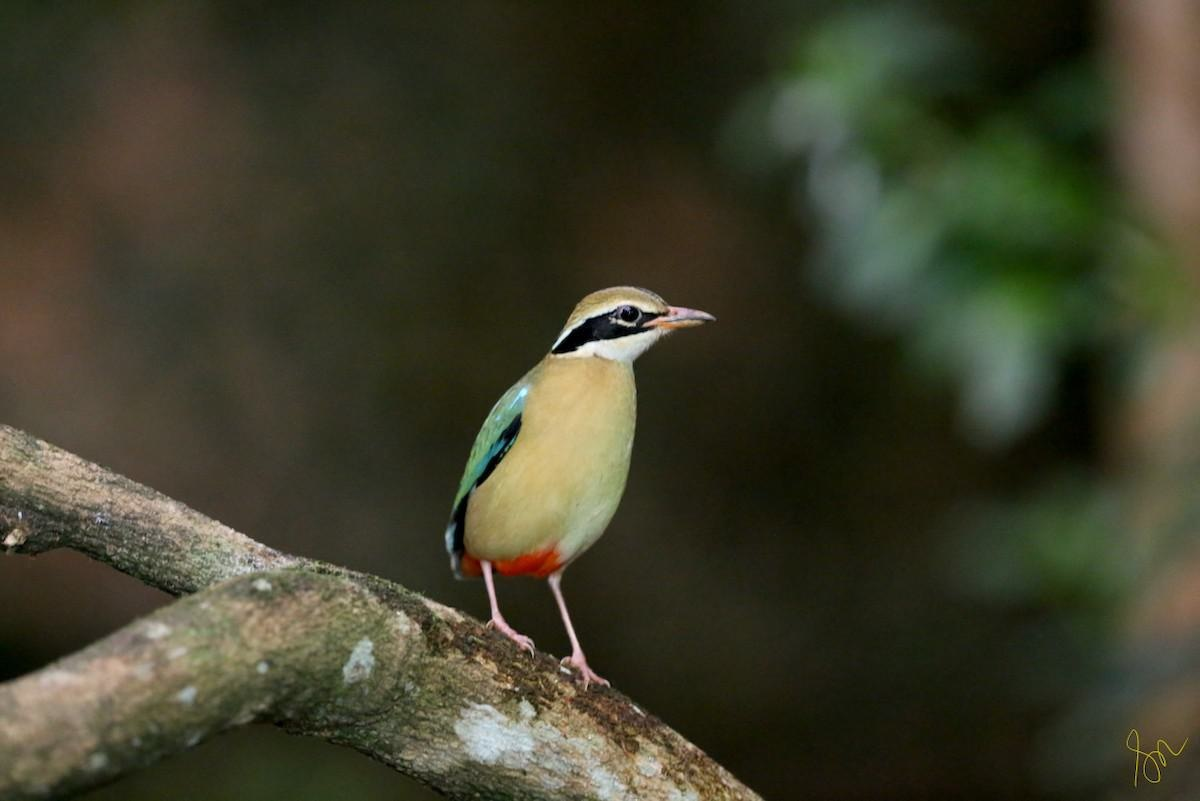pitta: (425, 265, 721, 643)
